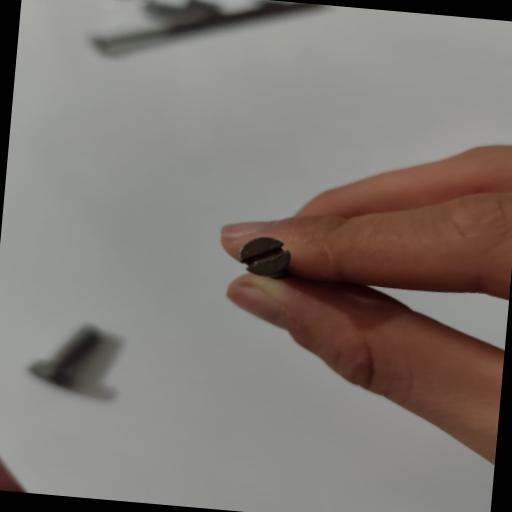Slotted: (232, 232, 298, 283)
